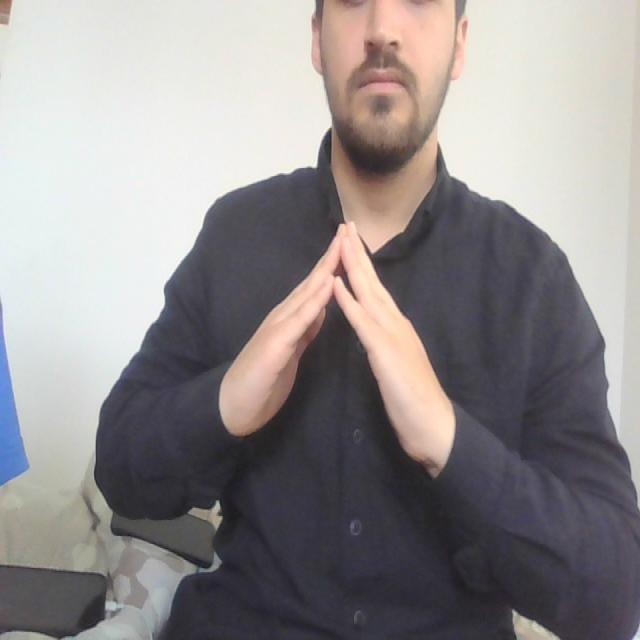Ev: (215, 212, 460, 478)
